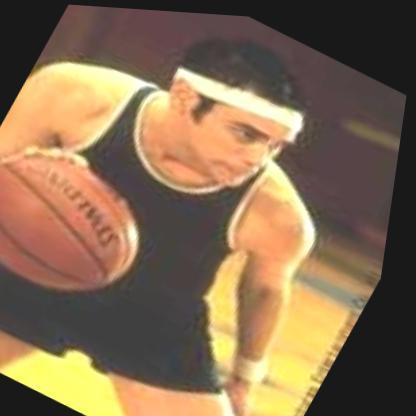basketball: (0, 118, 187, 328)
